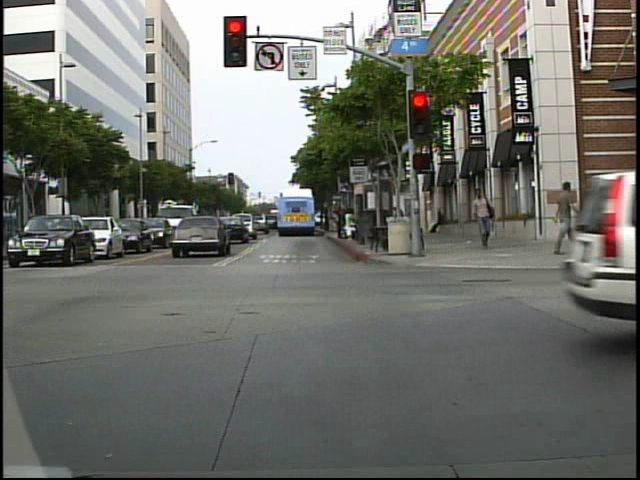person: (429, 206, 451, 237)
